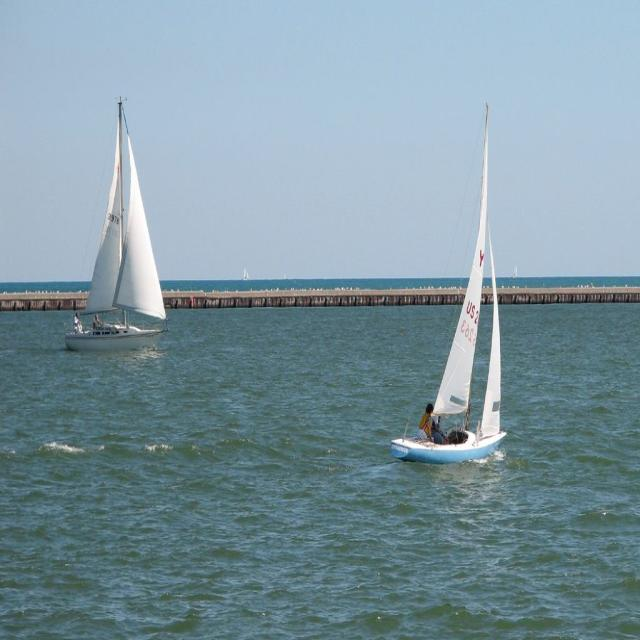Boat: (390, 104, 502, 464), (68, 105, 168, 362)
